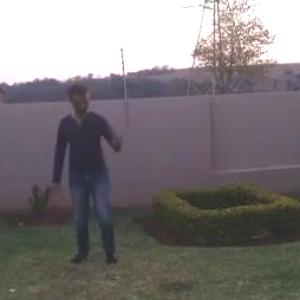takeoff-hand: (106, 117, 136, 153)
